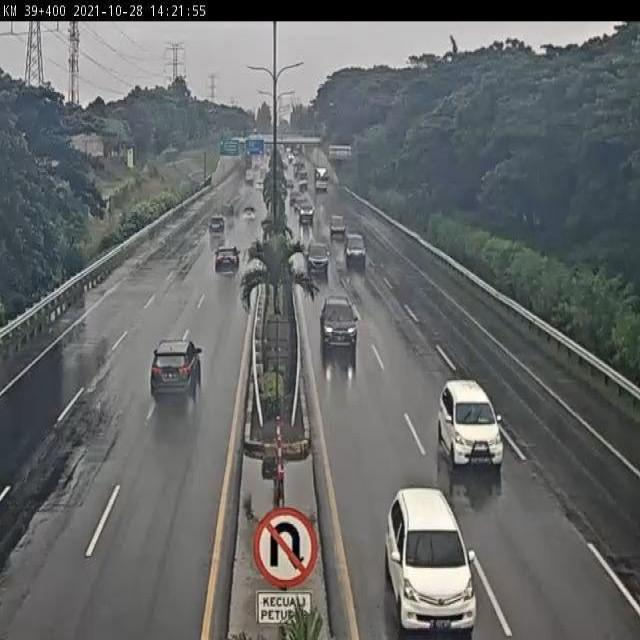car: (383, 488, 478, 635), (436, 380, 504, 468), (149, 341, 201, 404), (319, 289, 356, 344), (304, 241, 330, 276), (343, 232, 367, 267), (214, 243, 241, 273), (326, 211, 346, 237), (208, 214, 228, 238), (298, 200, 315, 227), (240, 204, 258, 227)
